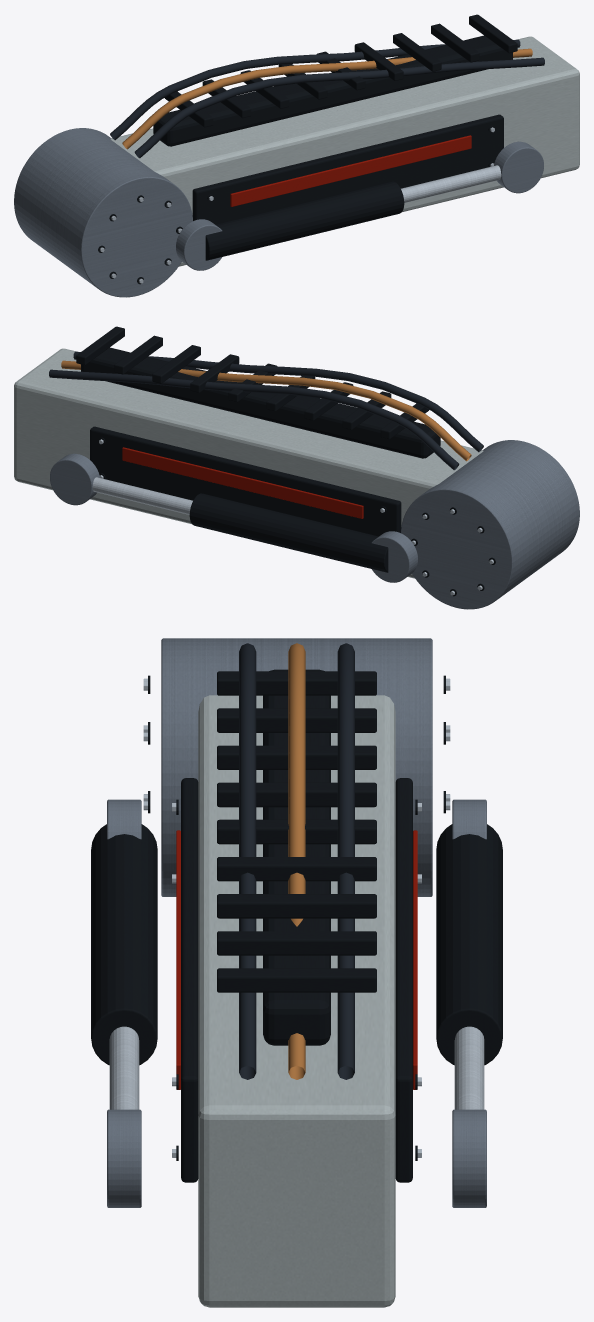
Rendered from boom.glb.
3 views of the same model, one above another, from view 1: azimuth 30°, elevation 25°; view 2: azimuth 150°, elevation 25°; view 3: azimuth 270°, elevation 25° (orthographic). The views are drawn at different scales.
Visible parts, largest first — view 1: boom; view 2: boom; view 3: boom.
Boxes of the visible parts, box(x1,y1,x2,y2) form: boom: box(14, 14, 579, 297); boom: box(14, 326, 579, 609); boom: box(91, 638, 502, 1307).
Bounding box in the file's own units: 0.955 × 0.2931 × 0.334.
7 materials, 5 textured.
